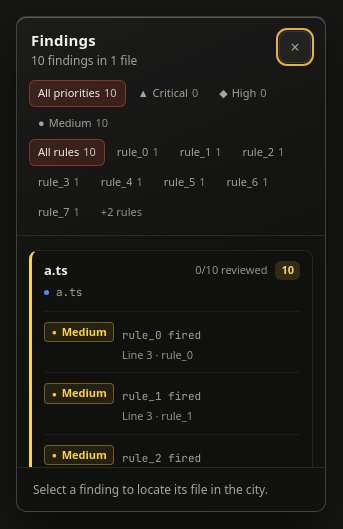
Scenario: the findings tally › says how many rules the chip row left out, and shows them on demand
Click the button "+2 rules". click: point(121, 212)
box: [92,199,151,226]
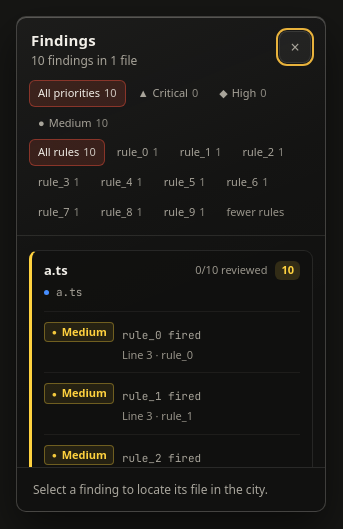
Now the text "fewer rules" is shown, box [218,199,293,226]
